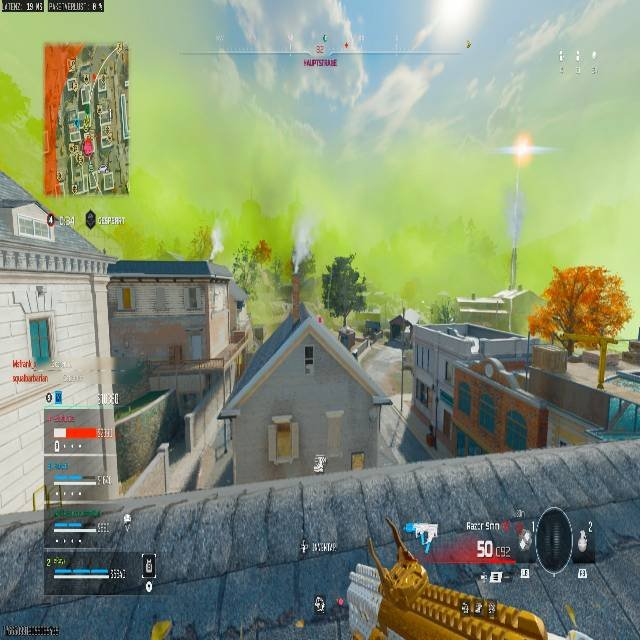player: (338, 325, 356, 353)
